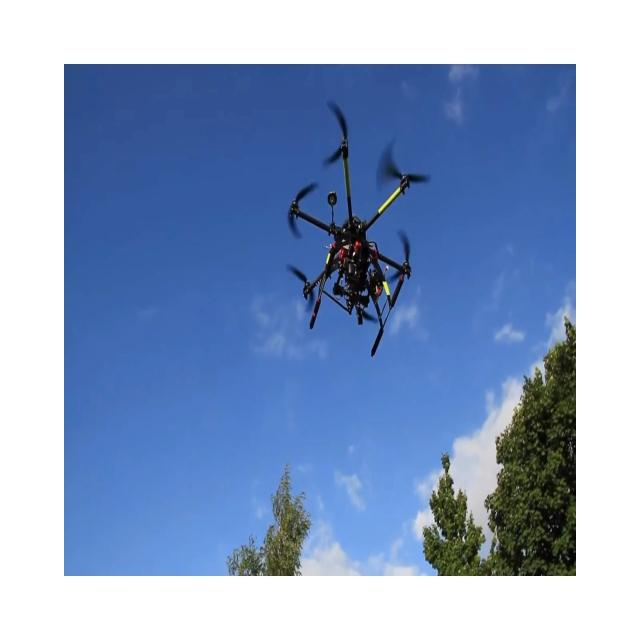drone: (286, 99, 431, 357)
